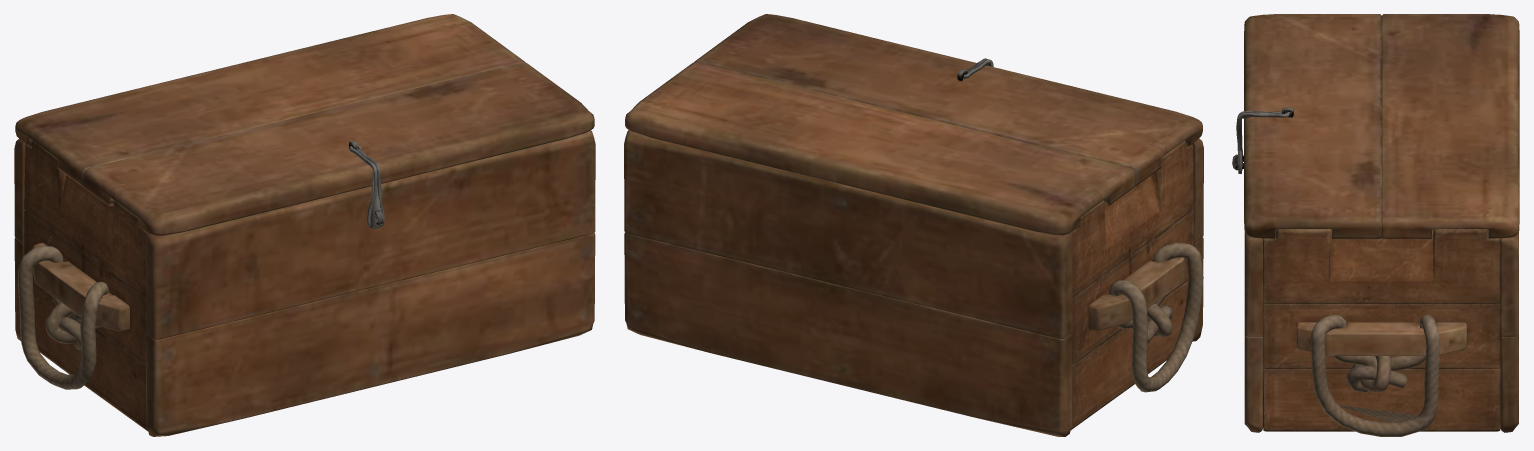
Rendered from wooden_crate_01.glb.
3 renders of one model, left to right at view 1: azimuth 30°, elevation 25°; view 2: azimuth 150°, elevation 25°; view 3: azimuth 270°, elevation 25°, orthographic. The views are drawn at different scales.
Visible parts, largest first — view 1: wooden_crate_01_lid; view 2: wooden_crate_01_lid; view 3: wooden_crate_01_lid, wooden_crate_01_lid_lo.
Boxes of the visible parts, x1,y1,x2,y2 form: wooden_crate_01_lid: (14,14,595,436); wooden_crate_01_lid: (624,14,1203,436); wooden_crate_01_lid: (1232,14,1519,436); wooden_crate_01_lid_lo: (1234,110,1500,422).
Size of the model in its own units: 0.8253 by 0.3496 by 0.4089.
Materials: 1 (1 with a texture image).
